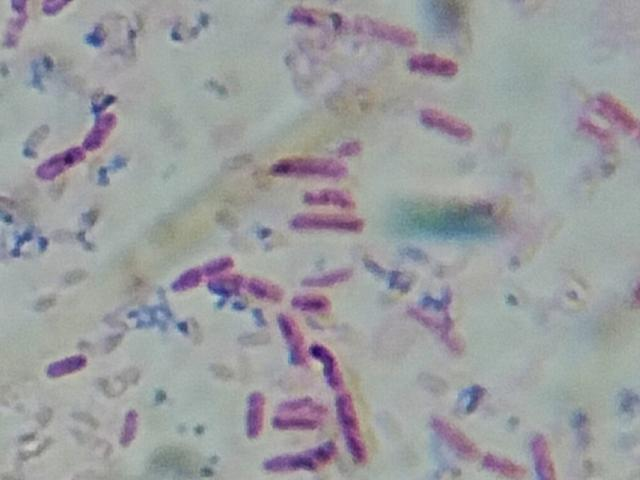E. coli: (268, 144, 349, 182), (290, 207, 373, 239), (335, 394, 367, 462), (264, 441, 334, 472), (406, 50, 468, 82), (422, 106, 474, 142), (37, 141, 82, 178), (593, 92, 640, 125), (314, 341, 345, 390), (436, 420, 474, 459), (84, 109, 119, 149), (44, 348, 88, 379), (279, 315, 307, 363), (305, 186, 360, 210), (529, 430, 555, 480), (304, 266, 360, 286), (482, 448, 517, 479), (246, 387, 266, 439), (202, 251, 239, 279), (170, 259, 201, 292), (294, 292, 334, 316), (210, 276, 245, 302), (249, 275, 278, 304), (279, 409, 311, 431), (41, 0, 71, 20)
